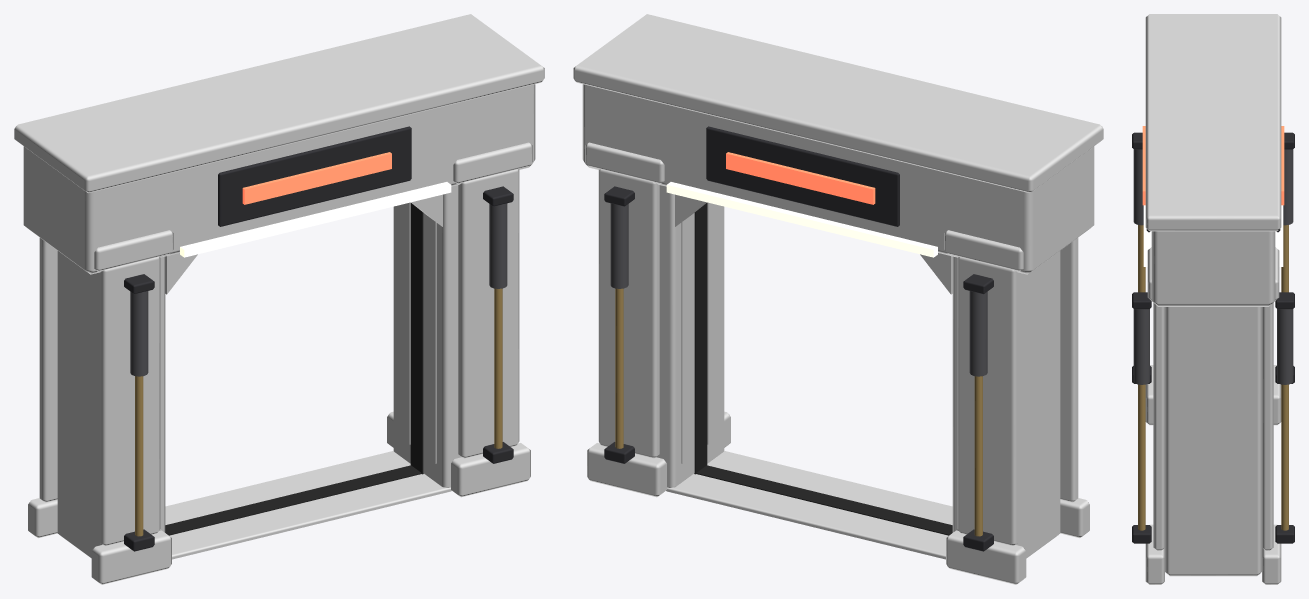
File: door_frame.glb
3 views of the same model, side by side, from view 1: azimuth 30°, elevation 25°; view 2: azimuth 150°, elevation 25°; view 3: azimuth 270°, elevation 25° (orthographic). The views are drawn at different scales.
Parts seen in each view (by area): view 1: Frame, Status; view 2: Frame, Status; view 3: Frame, Status.
Part boxes in pixels (x1=…): Frame: x1=14, y1=14, x2=544, y2=584; Status: x1=242, y1=152, x2=391, y2=204; Frame: x1=573, y1=14, x2=1103, y2=584; Status: x1=726, y1=152, x2=875, y2=204; Frame: x1=1132, y1=14, x2=1294, y2=584; Status: x1=1142, y1=126, x2=1284, y2=205.
Size of what is drawn, in the model's own units: 5 by 4.28 by 1.68.
